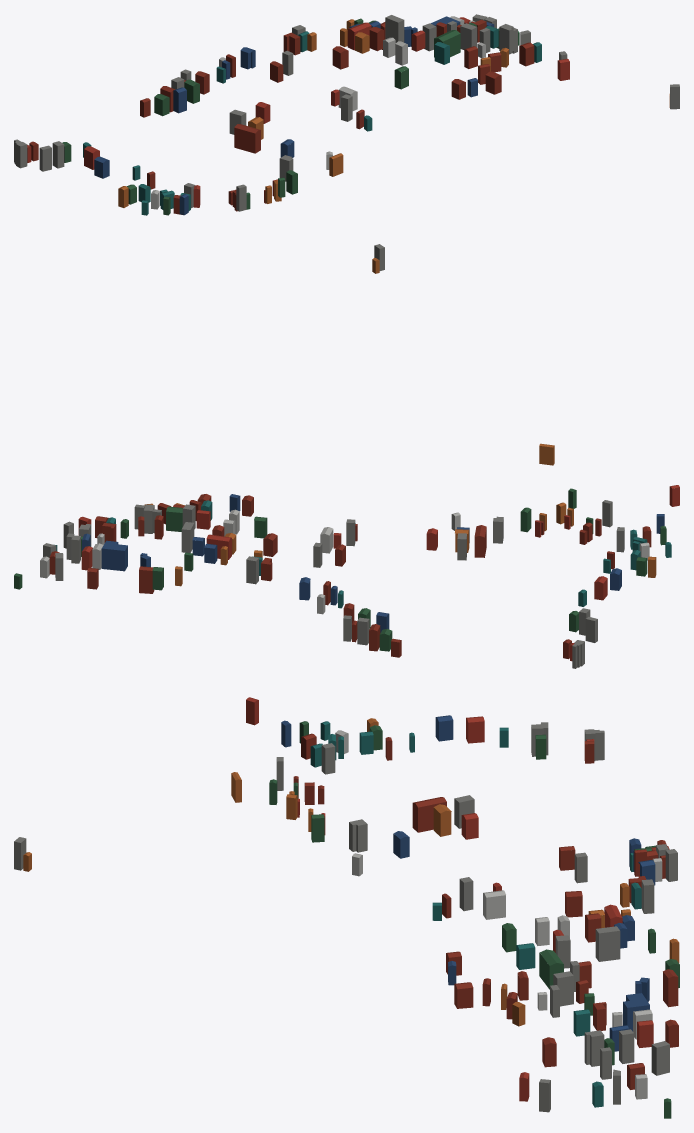
Rendered from near-16-54719-29733.72346402.glb.
3 views of the same model, one above another, from view 1: azimuth 30°, elevation 25°; view 2: azimuth 150°, elevation 25°; view 3: azimuth 270°, elevation 25° (orthographic). The views are drawn at different scales.
Size of the model in its own units: 591 by 184 by 512.
